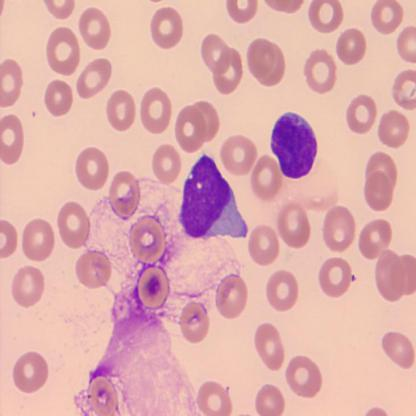Blast: (177, 152, 250, 242), (268, 108, 321, 180)
